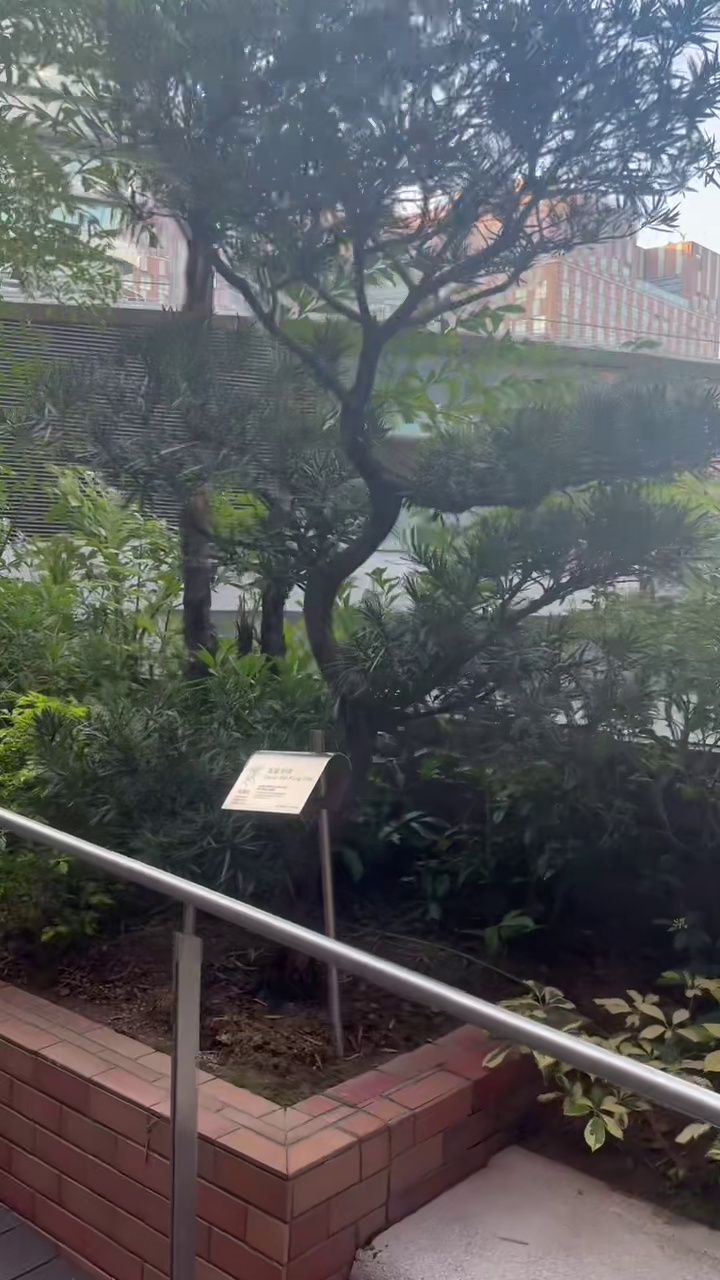Podocarpus macrophyllus: (88, 0, 719, 778)
